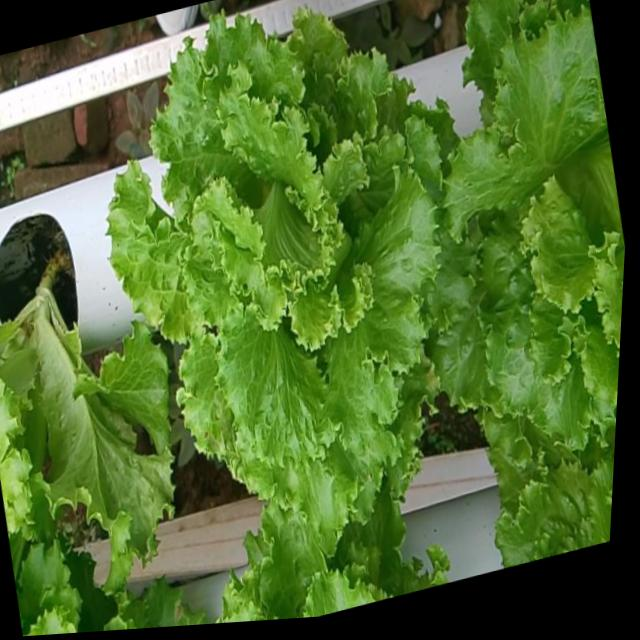Mature: (110, 14, 443, 533), (431, 1, 625, 448)
